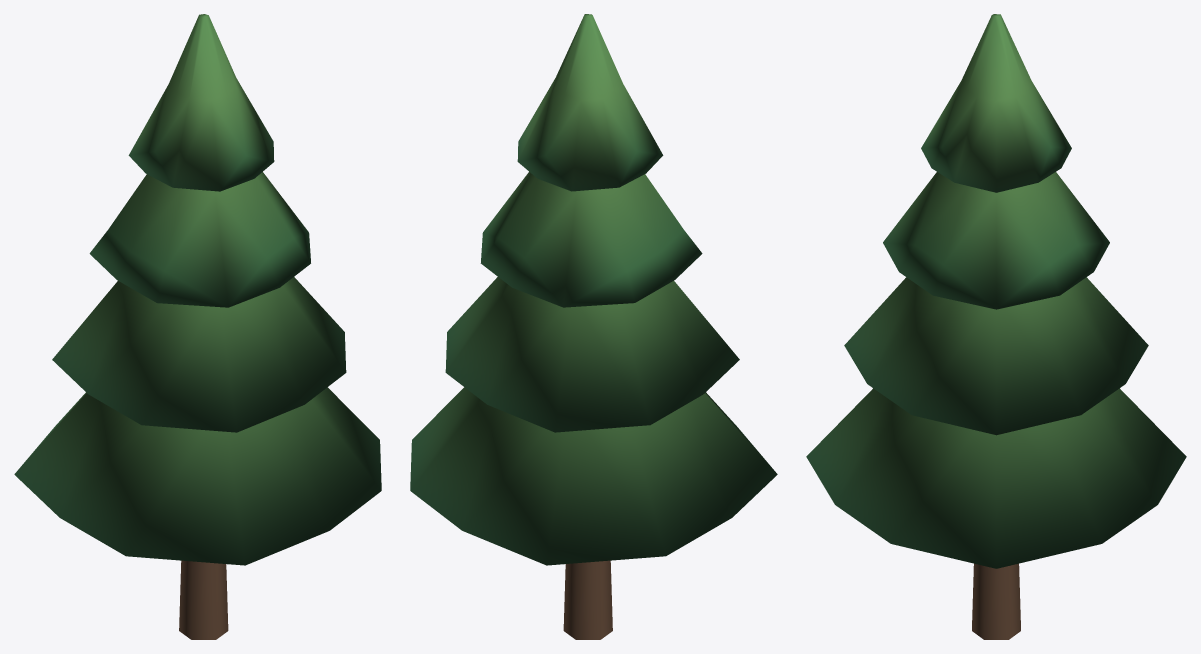
File: env_sky_pine.glb
3 renders of one model, left to right at view 1: azimuth 30°, elevation 25°; view 2: azimuth 150°, elevation 25°; view 3: azimuth 270°, elevation 25°, orthographic.
Visible parts, largest first — view 1: SM_sky_sky_vc_x0_z0; view 2: SM_sky_sky_vc_x0_z0; view 3: SM_sky_sky_vc_x0_z0.
Part boxes in pixels (bbox=[...]): SM_sky_sky_vc_x0_z0: bbox=[14, 14, 381, 639]; SM_sky_sky_vc_x0_z0: bbox=[410, 14, 777, 639]; SM_sky_sky_vc_x0_z0: bbox=[806, 14, 1186, 639].
Size of the model in its own units: 1.95 by 3.58 by 2.01.
